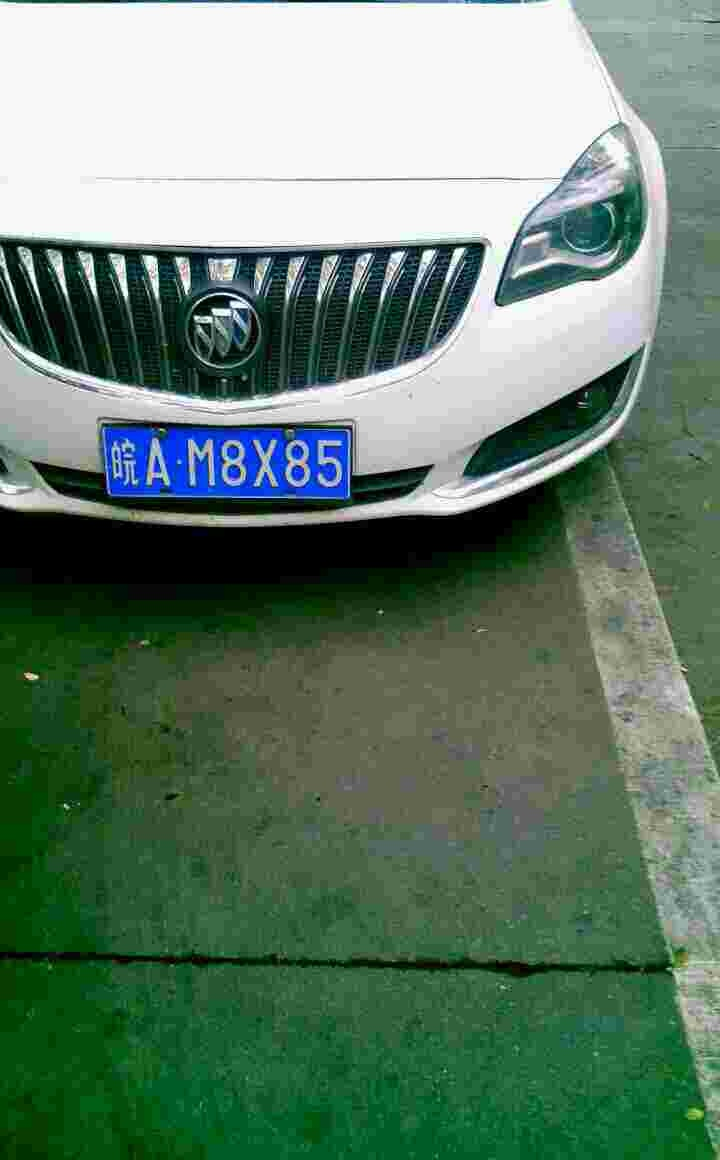license_plate: (98, 417, 349, 498)
